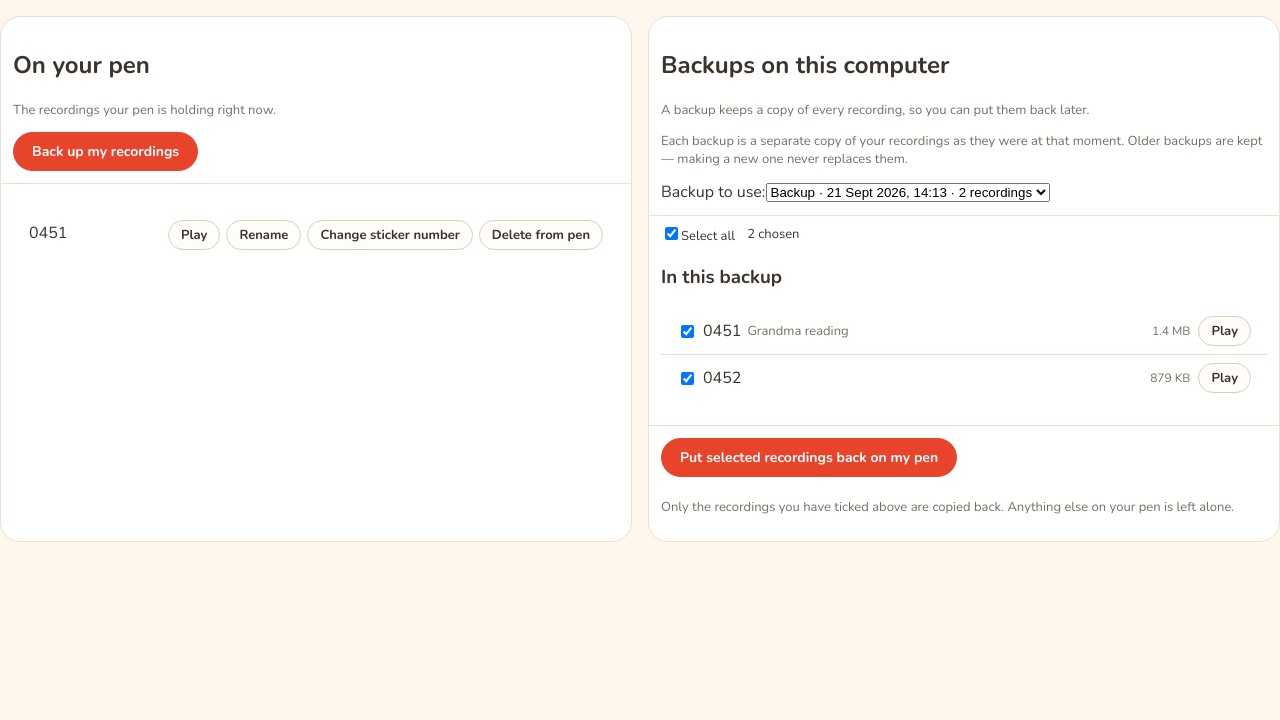
recordings — what is inside a backup › starts with everything ticked, and Select all clears and restores the lot
This screenshot has width=1280, height=720.
Expected: the heading "On your pen" is shown, x1=13 y1=49 x2=150 y2=81
Expected: the heading "In this backup" is shown, x1=661 y1=264 x2=782 y2=290
Click the checkbox labelled "Select all" at (672, 233), box x1=665 y1=227 x2=678 y2=240
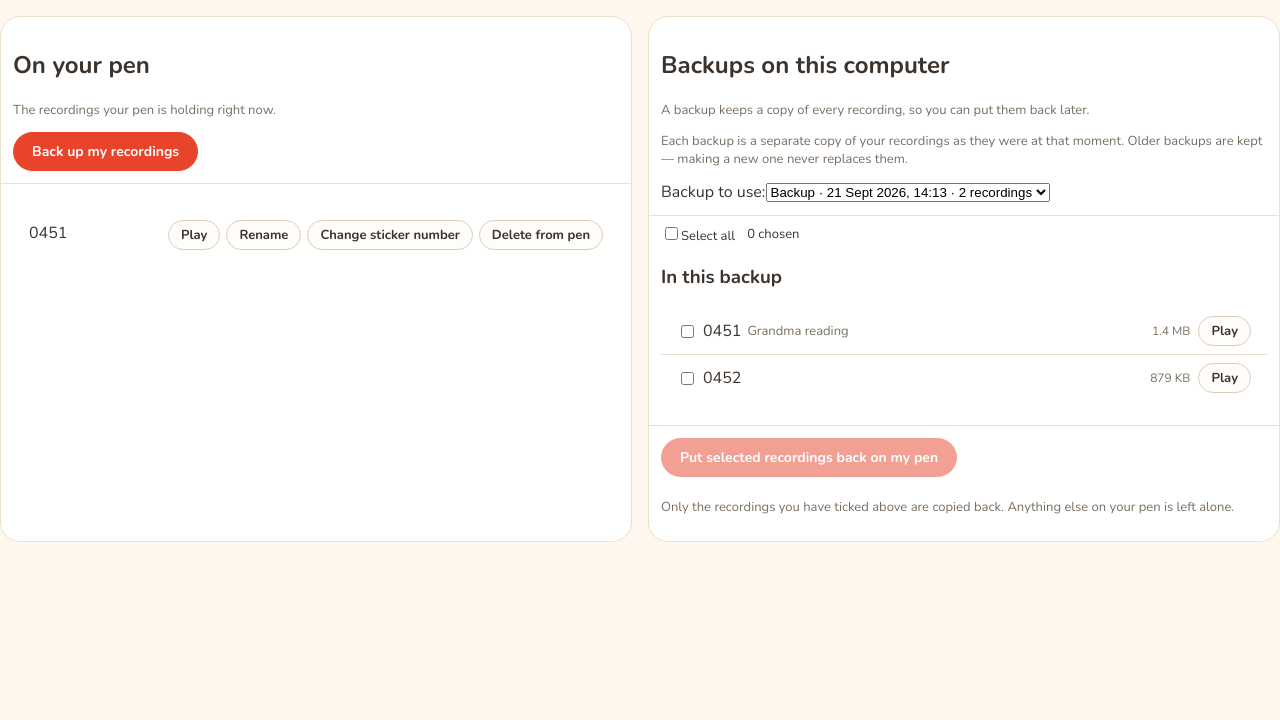
Expected: the text "0 chosen" is shown, x1=747 y1=225 x2=799 y2=243
Click the checkbox labelled "Select all" at (672, 233), box x1=665 y1=227 x2=678 y2=240
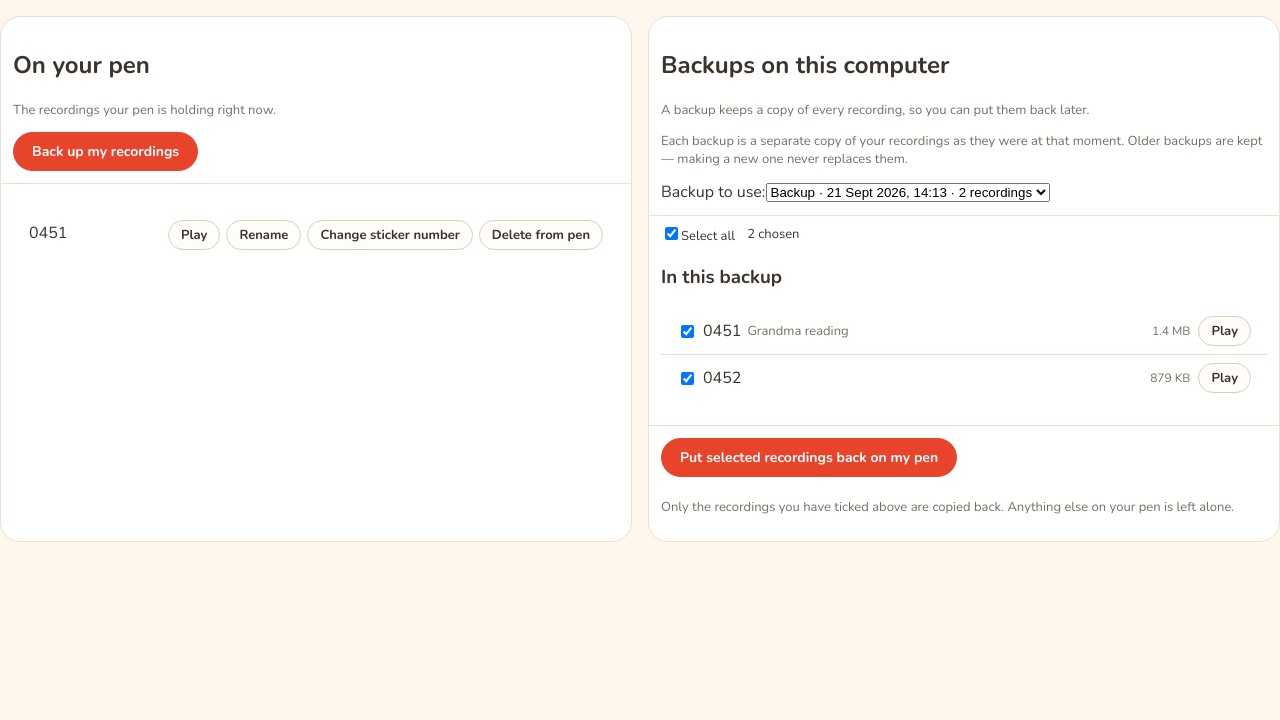
Expected: the text "2 chosen" is shown, x1=747 y1=225 x2=799 y2=243
